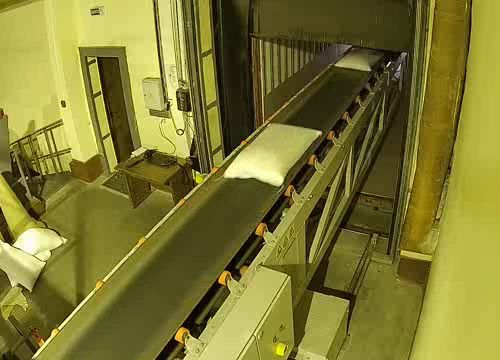bag: (220, 109, 329, 191), (333, 42, 390, 76)
